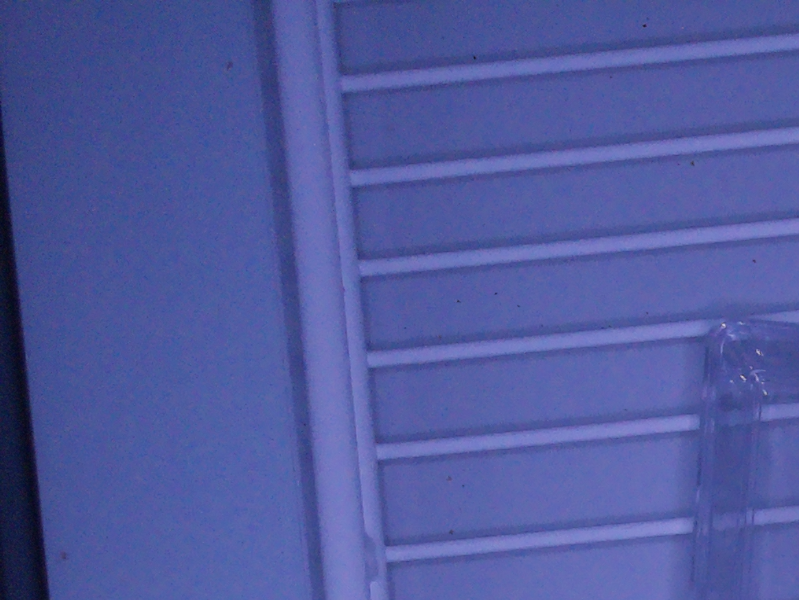plate: (693, 314, 799, 600)
